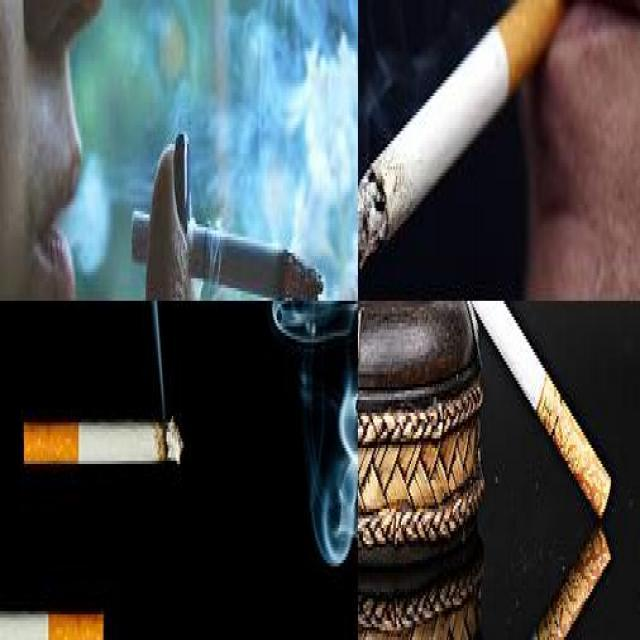smoke: (357, 0, 565, 294), (430, 301, 612, 525), (130, 205, 327, 298), (22, 419, 184, 467), (0, 602, 106, 636)
